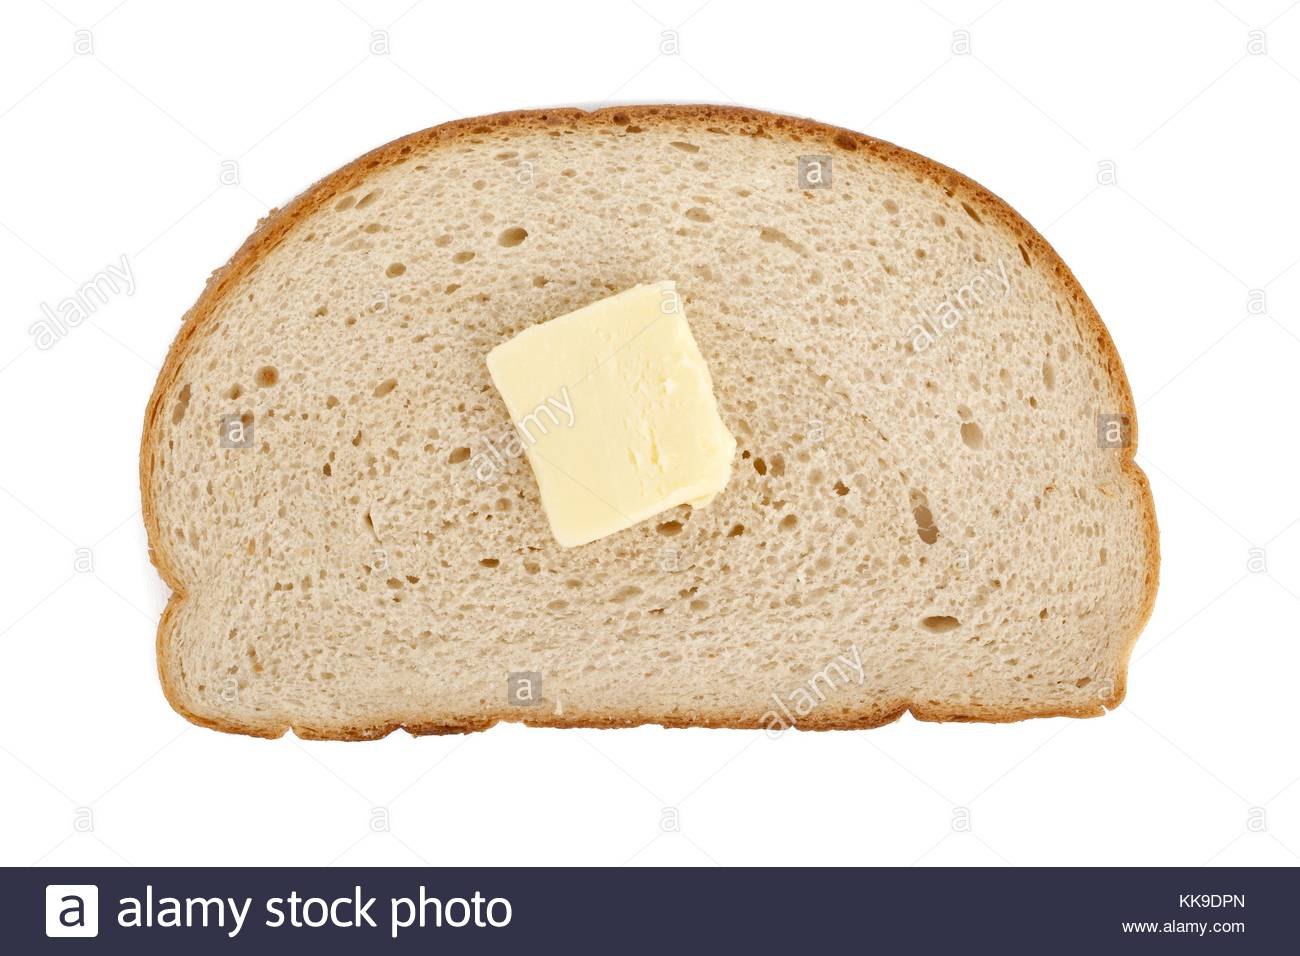slice of bread: (131, 100, 1139, 726)
